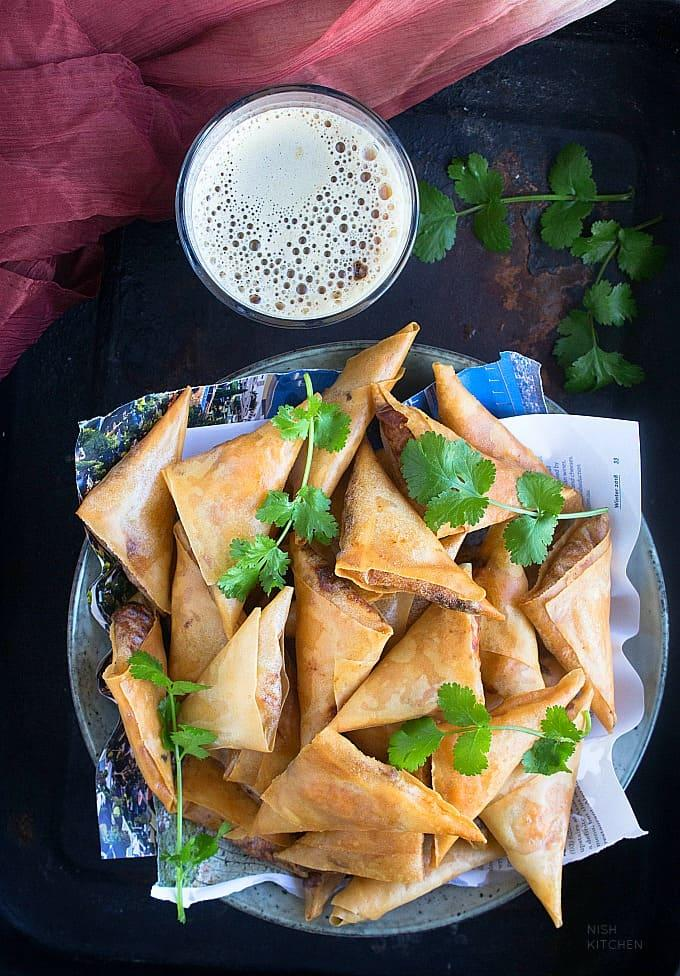samosa: (336, 442, 501, 619), (254, 726, 484, 842), (76, 387, 190, 612), (162, 421, 302, 585), (518, 513, 616, 731), (290, 539, 393, 744), (330, 604, 482, 732), (181, 587, 294, 752), (480, 745, 580, 927)
